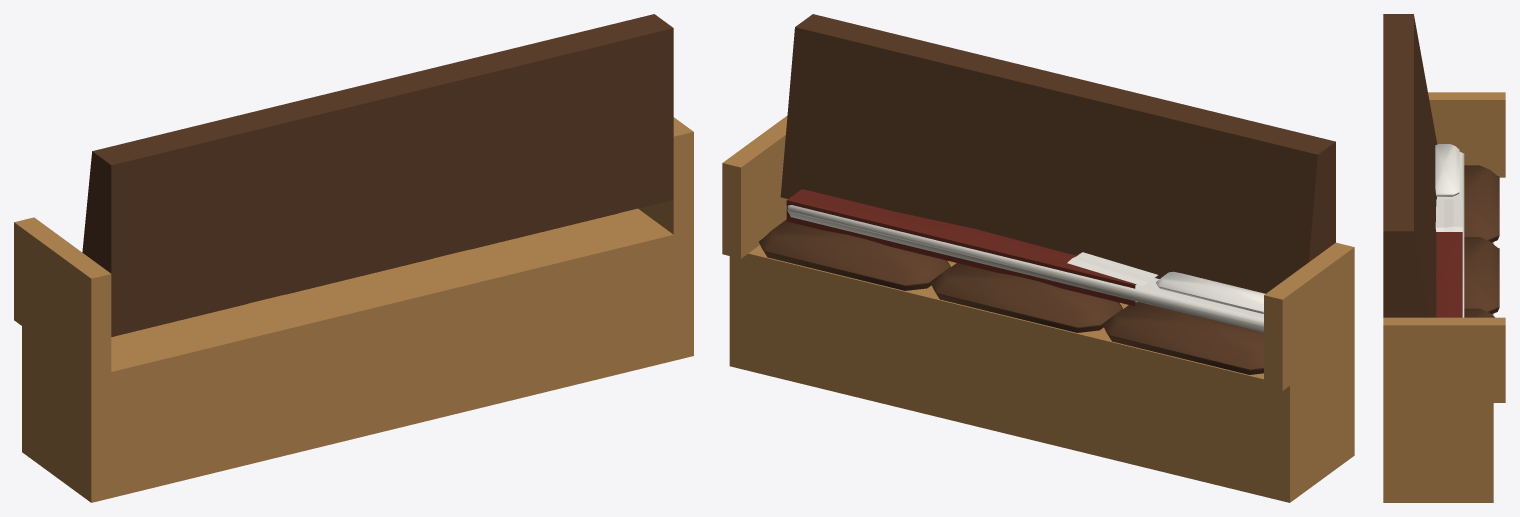
3 views of the same model, side by side, from view 1: azimuth 30°, elevation 25°; view 2: azimuth 150°, elevation 25°; view 3: azimuth 270°, elevation 25° (orthographic). The views are drawn at different scales.
Visible parts, largest first — view 1: parametric-variant-settee-3rd-1237cdc588f14aca5591; view 2: parametric-variant-settee-3rd-1237cdc588f14aca5591; view 3: parametric-variant-settee-3rd-1237cdc588f14aca5591.
Boxes of the visible parts, x1,y1,x2,y2 form: parametric-variant-settee-3rd-1237cdc588f14aca5591: (14, 14, 693, 502); parametric-variant-settee-3rd-1237cdc588f14aca5591: (722, 14, 1354, 502); parametric-variant-settee-3rd-1237cdc588f14aca5591: (1383, 14, 1505, 502).
Bounding box in the file's own units: 1.8 × 0.95 × 0.4.
